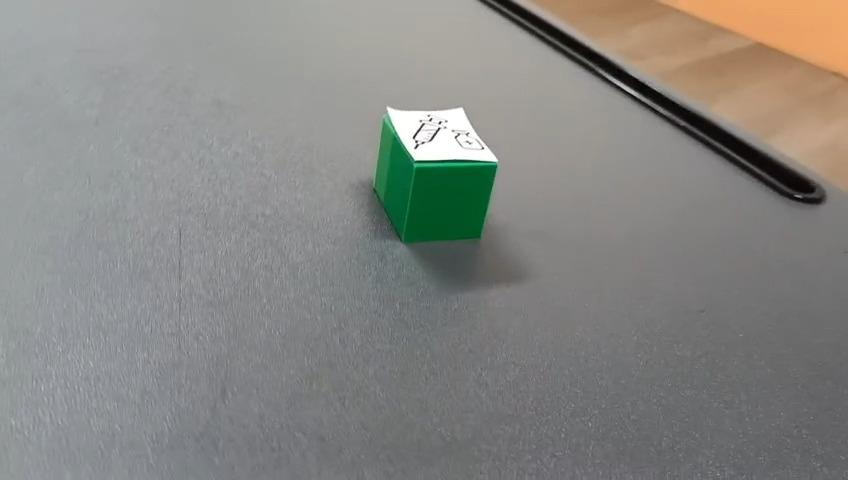antiseptic cream: (371, 104, 499, 244)
